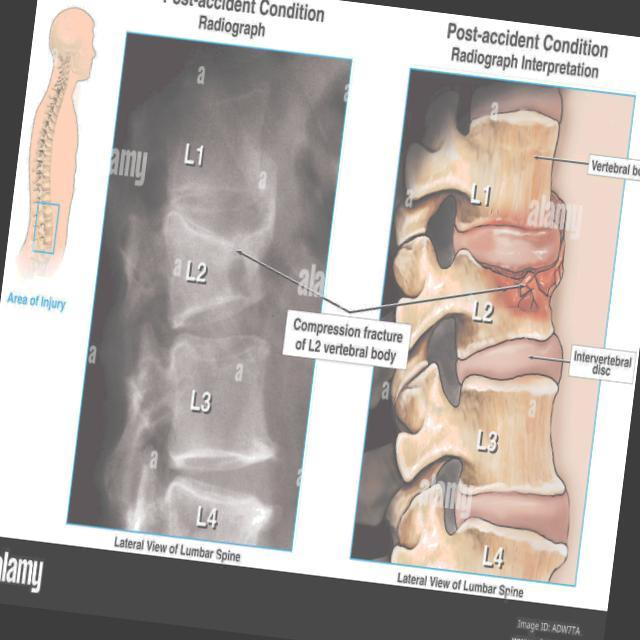Compression-Crush Fracutre: (167, 215, 270, 310), (497, 261, 563, 316)
